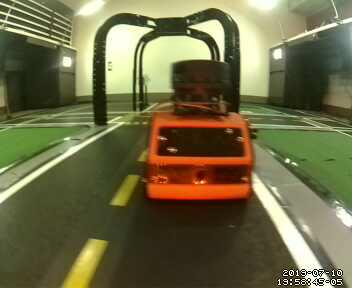pheeno: (146, 58, 256, 203)
